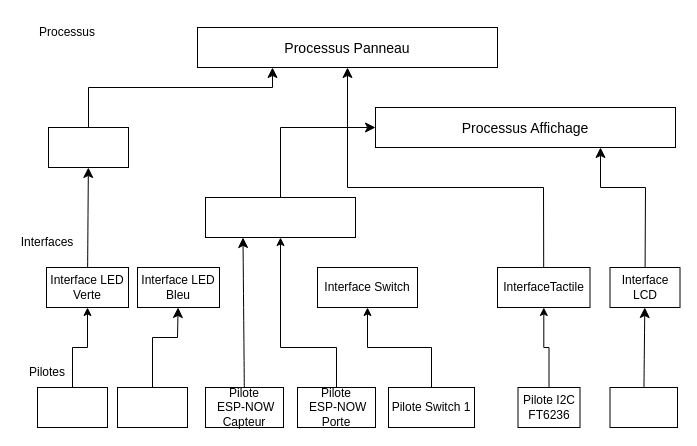
The diagram is 697 pixels wide and 446 high, and some of its shapes have lost their labels. Each missing label, with the centre of its shape:
"Pilote LED Bleu" belongs at point (152, 407).
"Pilote LED verte" belongs at point (72, 407).
"Pilote SPI Écran" belongs at point (643, 407).
"Service Base de Temps" belongs at point (88, 147).
"Service Syncronisation des communications" belongs at point (280, 217).
